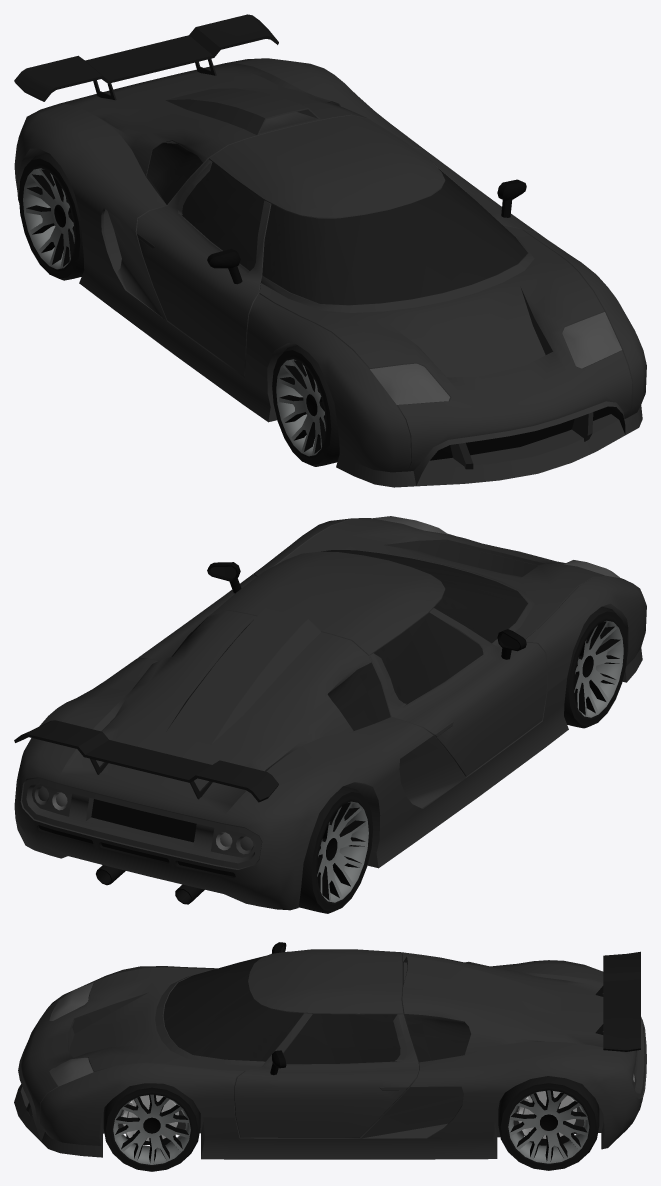
Rendered from Koenigsegg_black.fbx.
3 views of the same model, one above another, from view 1: azimuth 30°, elevation 25°; view 2: azimuth 150°, elevation 25°; view 3: azimuth 270°, elevation 25° (orthographic). The views are drawn at different scales.
Visible parts, largest first — view 1: Body, Wheel_BR, Wheel_FR; view 2: Body, Wheel_BR, Wheel_FR; view 3: Body, Wheel_BL, Wheel_FL.
Part boxes in pixels (x1,y1,x2,y2): Body: [14, 14, 646, 487]; Wheel_BR: [18, 153, 84, 280]; Wheel_FR: [272, 345, 339, 466]; Body: [14, 516, 646, 910]; Wheel_BR: [299, 786, 373, 913]; Wheel_FR: [564, 606, 627, 728]; Body: [14, 942, 646, 1159]; Wheel_BL: [498, 1076, 599, 1170]; Wheel_FL: [103, 1083, 200, 1171].
Bounding box in the file's own units: 1.15 × 0.6738 × 2.54.
Materials: 5 (1 with a texture image).
